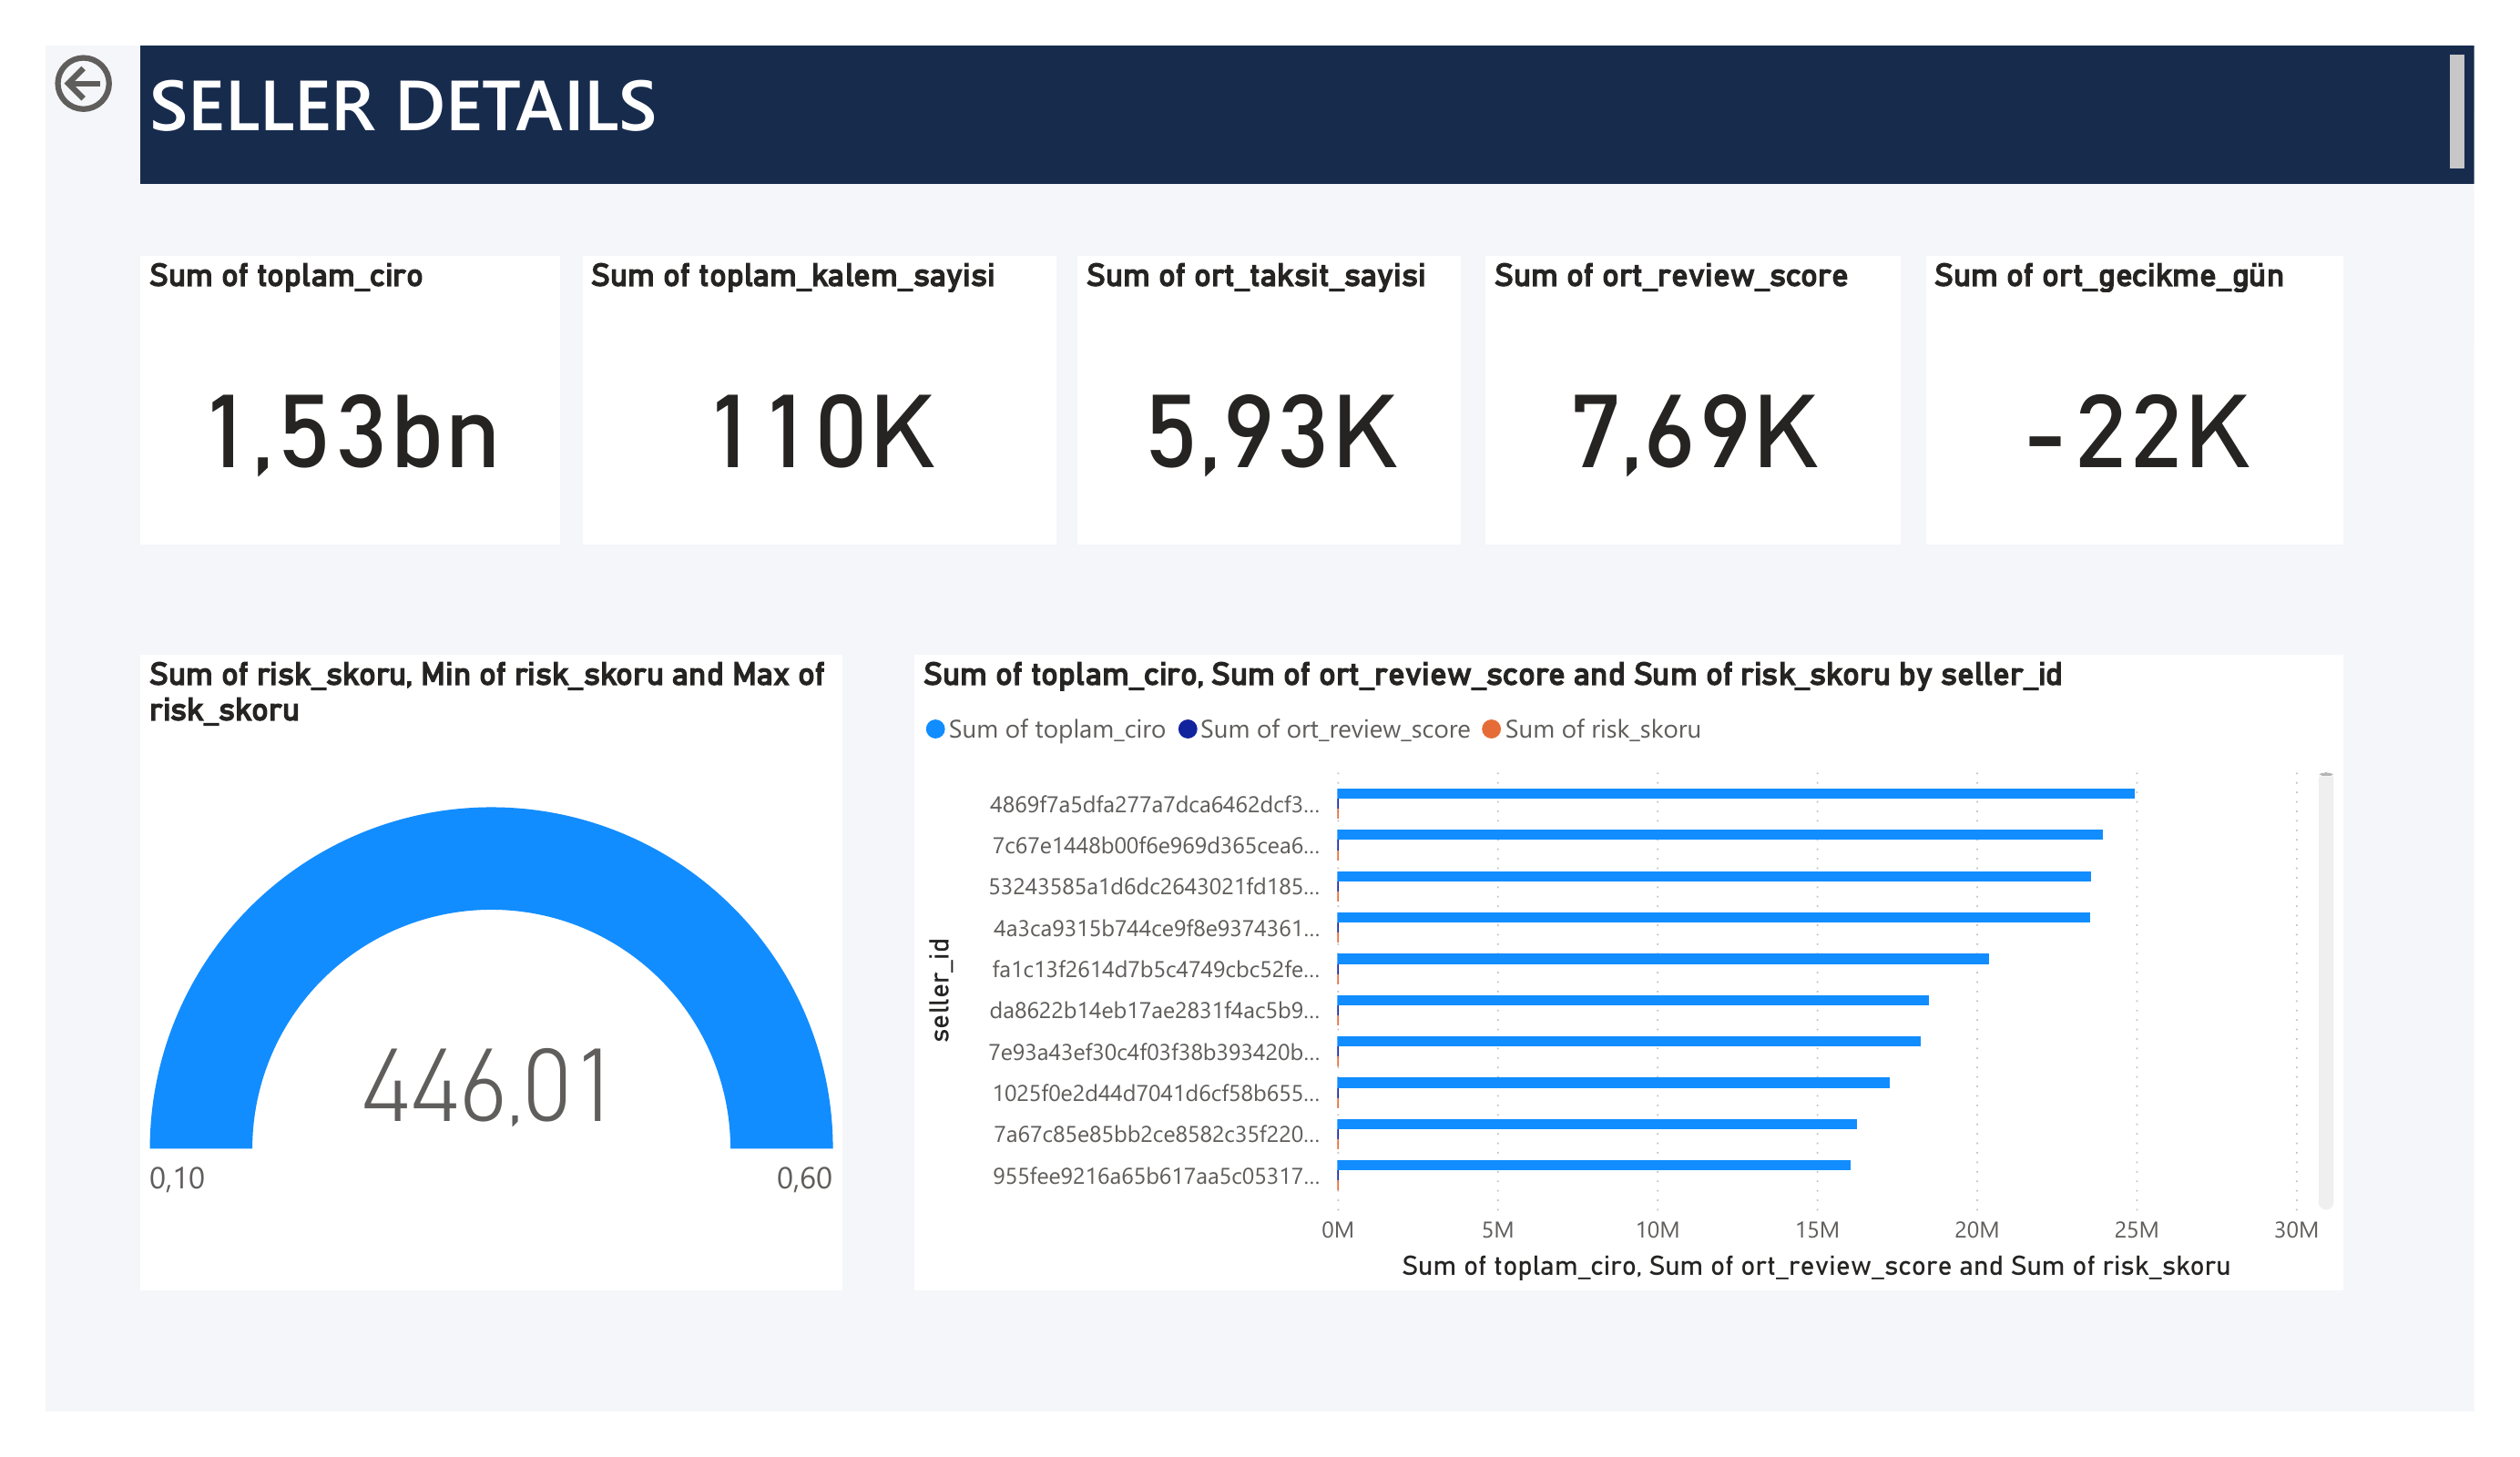

What the dashboard file says about the page in this screenshot:
{"tool":"powerbi","page":{"name":"Seller Detail","canvas":[1280,720],"ordinal":6},"visuals":[{"type":"actionButton","box":[0,0,100,40],"z":0},{"type":"card","title":"Sum of ort_review_score","fields":{"Values":["Sum(Query1.ort_review_score)"]},"box":[758.8,111.2,218.8,151.2],"z":1000},{"type":"card","title":"Sum of ort_taksit_sayisi","fields":{"Values":["Sum(Query1.ort_taksit_sayisi)"]},"box":[543.8,111.2,202.5,151.2],"z":2000},{"type":"card","title":"Sum of toplam_kalem_sayisi","fields":{"Values":["Sum(Query1.toplam_kalem_sayisi)"]},"box":[282.5,111.2,250,151.2],"z":3000},{"type":"card","title":"Sum of toplam_ciro","fields":{"Values":["Sum(Query1.toplam_ciro)"]},"box":[50,111.2,221.2,151.2],"z":4000},{"type":"card","title":"Sum of ort_gecikme_gün","fields":{"Values":["Sum(Query1.ort_gecikme_gun)"]},"box":[991.2,111.2,220,151.2],"z":5000},{"type":"gauge","fields":{"Y":["Sum(Query1.risk_skoru)"],"MinValue":["Min(Query1.risk_skoru)"],"MaxValue":["Max(Query1.risk_skoru)"]},"box":[50,321.2,370,335],"z":6000},{"type":"clusteredBarChart","fields":{"Category":["Query1.seller_id"],"Y":["Sum(Query1.toplam_ciro)","Sum(Query1.ort_review_score)","Sum(Query1.risk_skoru)"]},"box":[457.5,321.2,753.8,335],"z":7000},{"type":"textbox","box":[50,0,1230,72.5],"z":7001}]}

Visuals, with their boxes on the page's 1280x720 design canvas (x1, y1, x2, y2). These are canvas units, not pixel positions in the 2520x1457 screenshot, which may show the page scaled, cropped or inside an application window:
actionButton: (0,0,100,40)
"Sum of ort_review_score" card: (759,111,978,262)
"Sum of ort_taksit_sayisi" card: (544,111,746,262)
"Sum of toplam_kalem_sayisi" card: (282,111,532,262)
"Sum of toplam_ciro" card: (50,111,271,262)
"Sum of ort_gecikme_gün" card: (991,111,1211,262)
gauge - Sum(Query1.risk_skoru) x Min(Query1.risk_skoru): (50,321,420,656)
clusteredBarChart - Query1.seller_id x Sum(Query1.toplam_ciro): (458,321,1211,656)
textbox: (50,0,1280,72)
